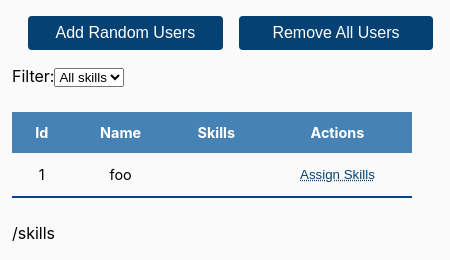
Test: ListUsers › should navigate to skill assignment page when clicked on the assign button
This screenshot has width=450, height=260.
Check: the number of rows is 2, box [12,112,412,153]; [12,153,412,197]
Step 1. Click the button "Assign Skills" → x=337, y=174, box [298,165,376,184]
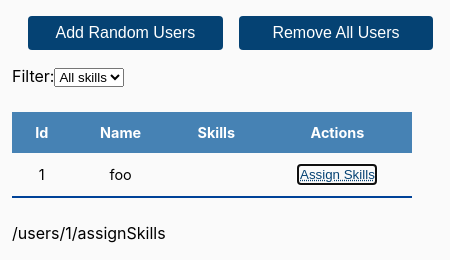
Check: the text with test id "location-display" reads "/users/1/assignSkills", box [12,223,166,243]
